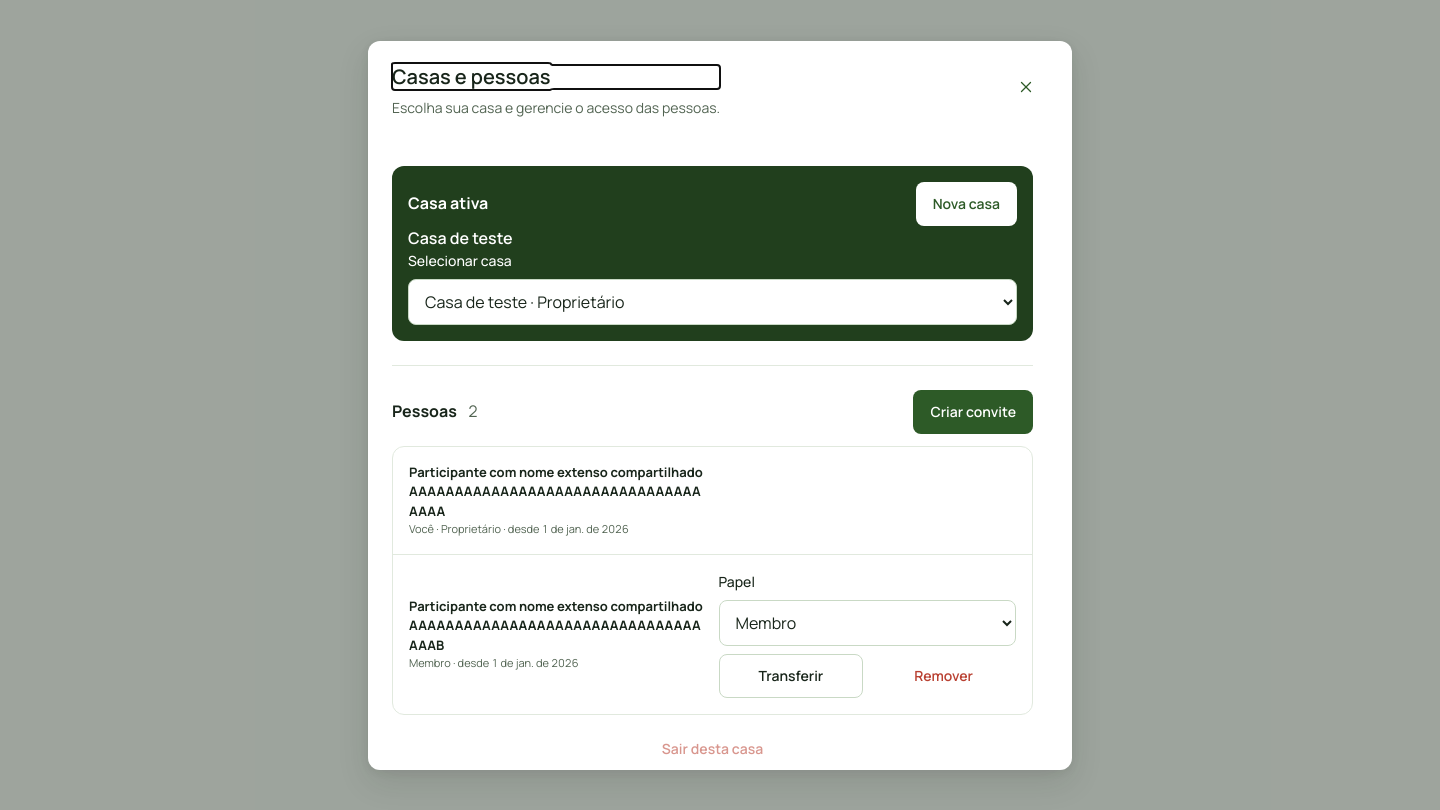
household invitations › keeps the ten-invite limit failure explicit without inventing a link
Click the button "Criar convite" at (973, 412), box [913,390,1033,434]
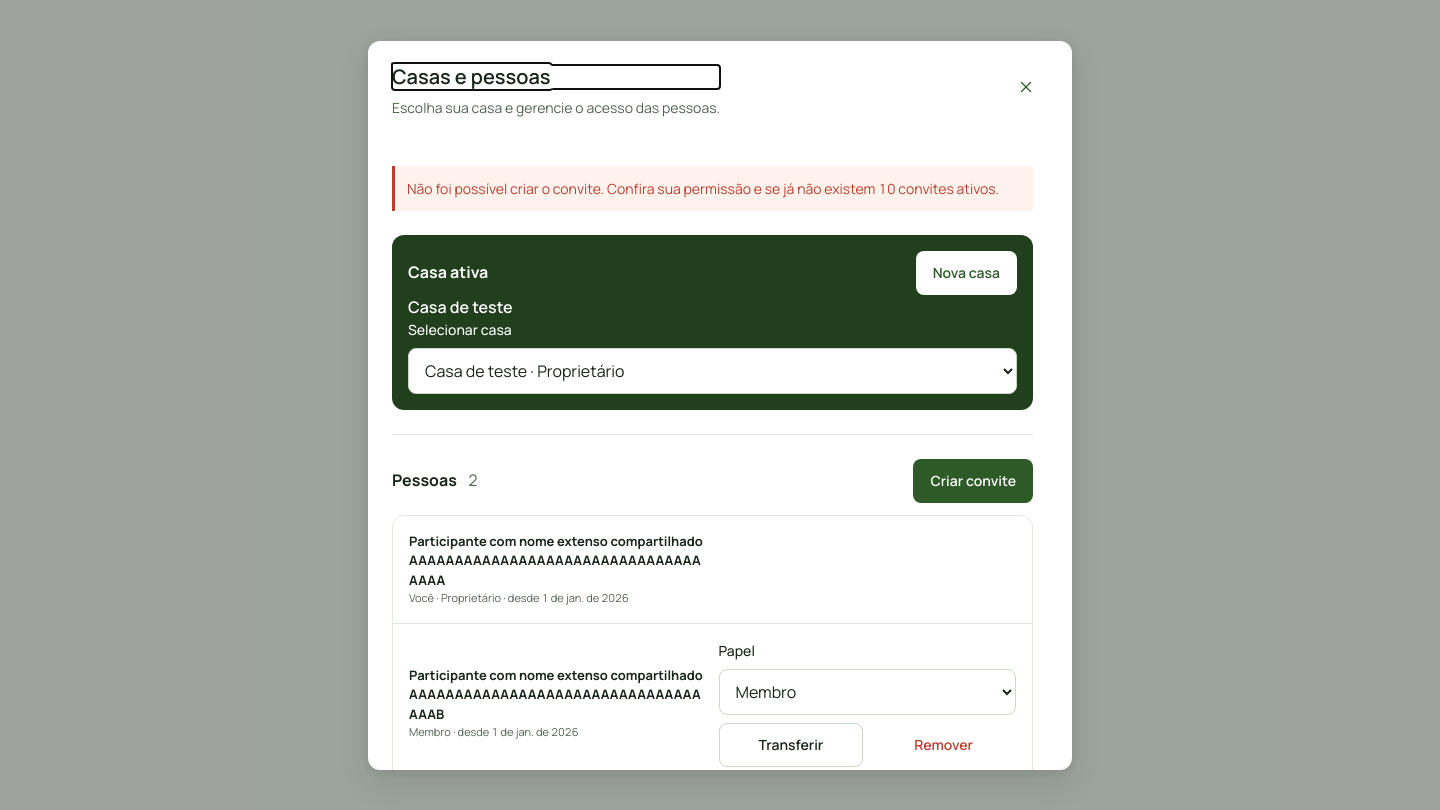
Now the text "10 convites ativos" is shown, box [407,178,999,198]
